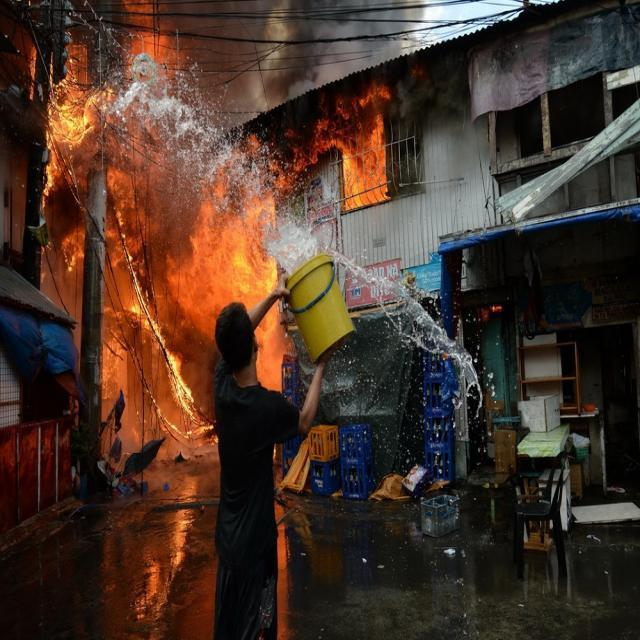Fire: (28, 1, 392, 470)
Smoke: (149, 1, 426, 128)
